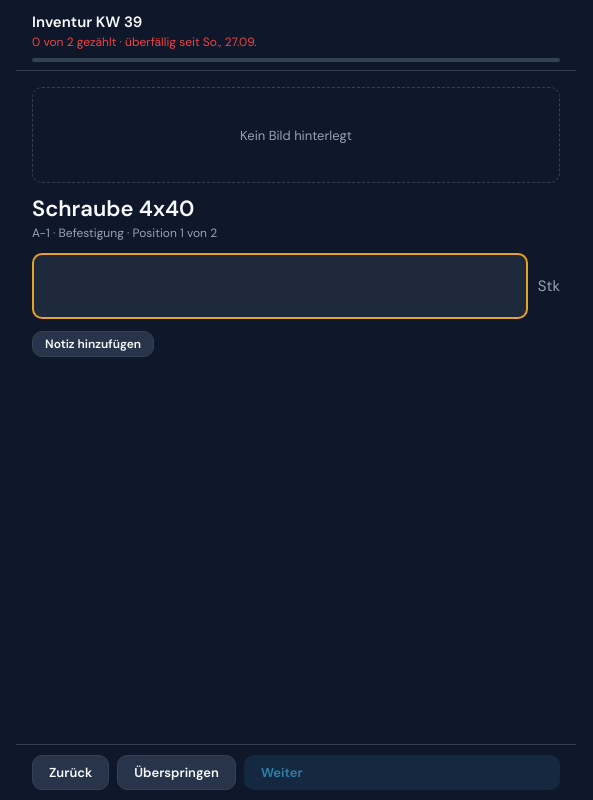
Test: Zählmodus › speichert bei «Weiter» und geht zur nächsten Position
Type "42" into the field named "Gezählte Menge" at (280, 286), box [32,252,528,318]
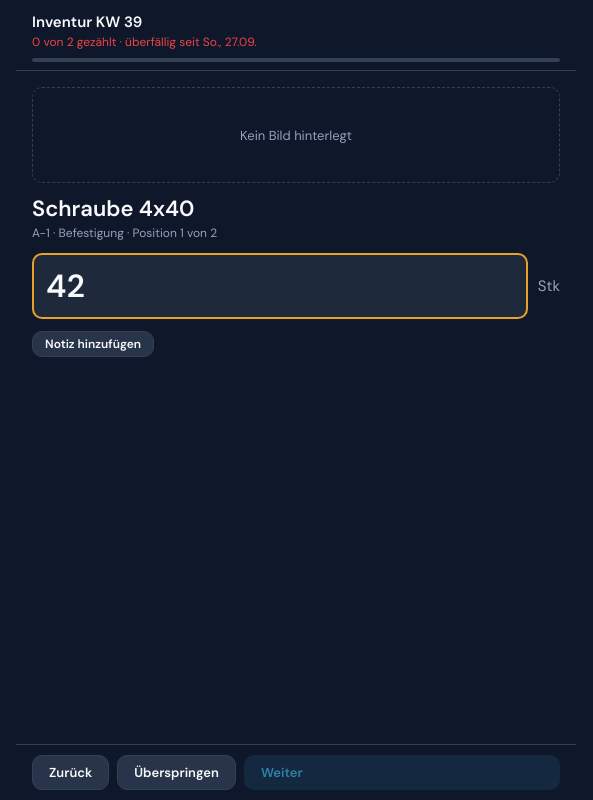
Click the button "Weiter" at (282, 772), box [244,755,560,790]
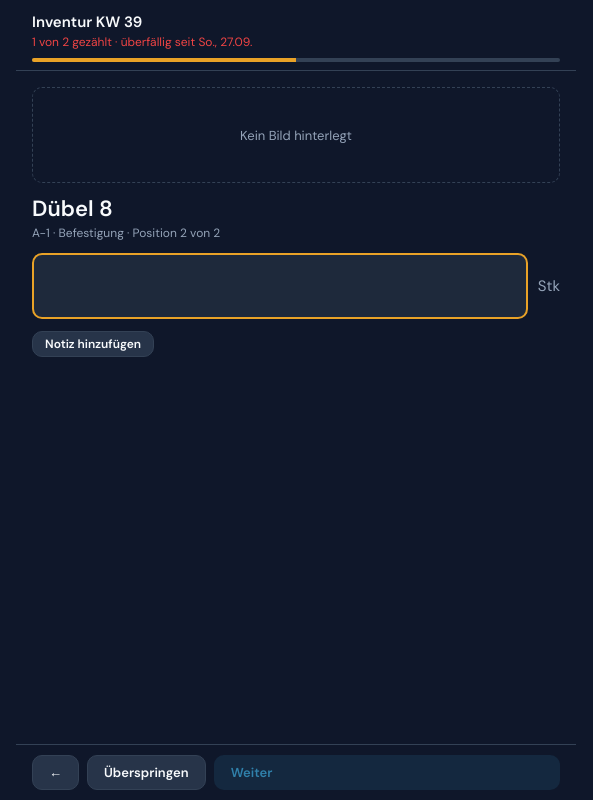
Expected: the text "Dübel 8" is shown, [32,194,113,223]
